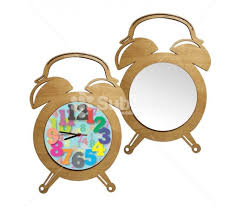alarm_clock: (17, 13, 210, 192), (28, 13, 210, 192)
